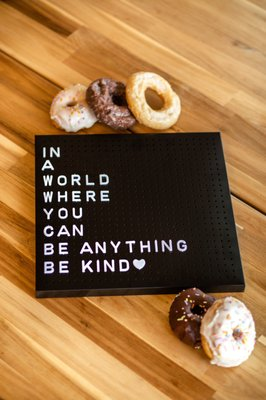curry: (0, 0, 265, 286)
salad: (200, 296, 257, 368), (125, 71, 181, 130), (168, 288, 217, 349), (86, 78, 136, 132), (49, 83, 98, 132)
